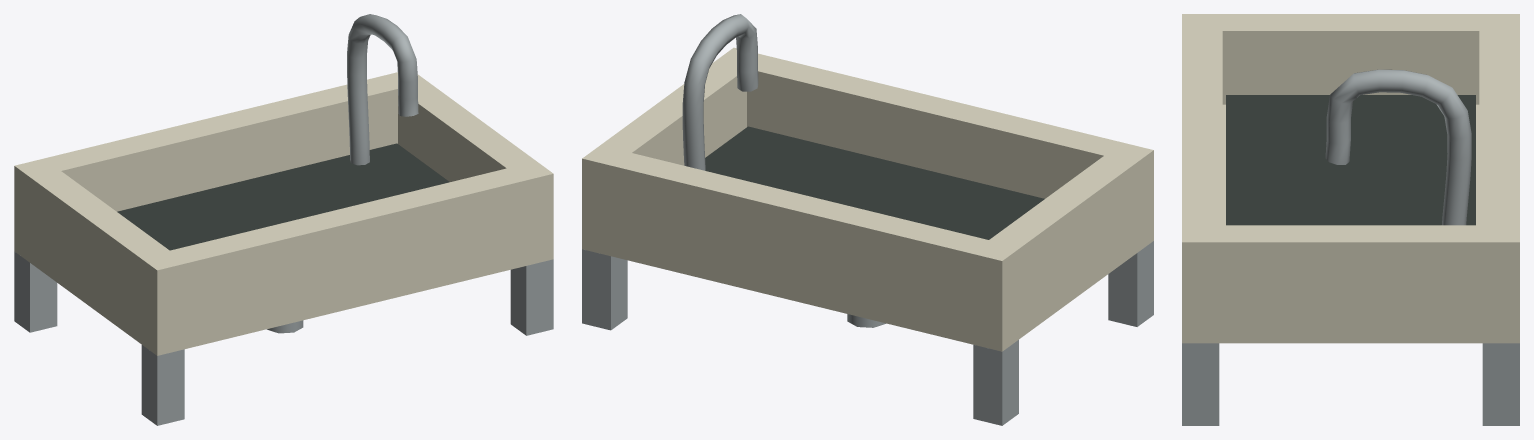
File: suburban-outbreak-interiors-kitchen-deep-sink-ee9240db__19981.glb
The picture shows the model from 3 angles, left to right: view 1: azimuth 30°, elevation 25°; view 2: azimuth 150°, elevation 25°; view 3: azimuth 270°, elevation 25°; orthographic projection. The views are drawn at different scales.
Visible parts, largest first — view 1: kitchen-deep-sink; view 2: kitchen-deep-sink; view 3: kitchen-deep-sink.
Boxes of the visible parts, x1,y1,x2,y2 form: kitchen-deep-sink: [14, 14, 553, 425]; kitchen-deep-sink: [582, 14, 1153, 425]; kitchen-deep-sink: [1182, 14, 1519, 425].
Size of the model in its own units: 0.8 by 0.5071 by 0.5.
